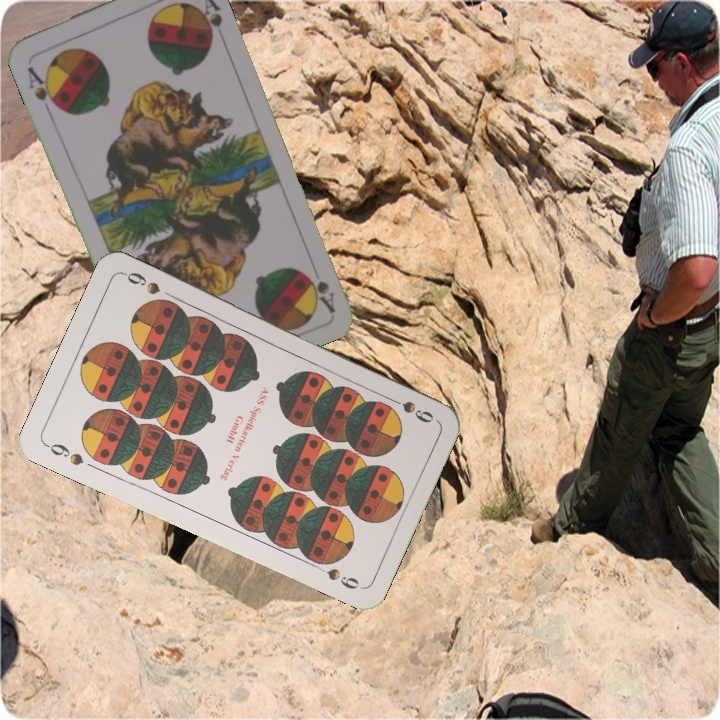S9: (381, 392, 437, 426), (41, 439, 86, 469)
SA: (298, 267, 337, 314), (23, 62, 61, 110)
